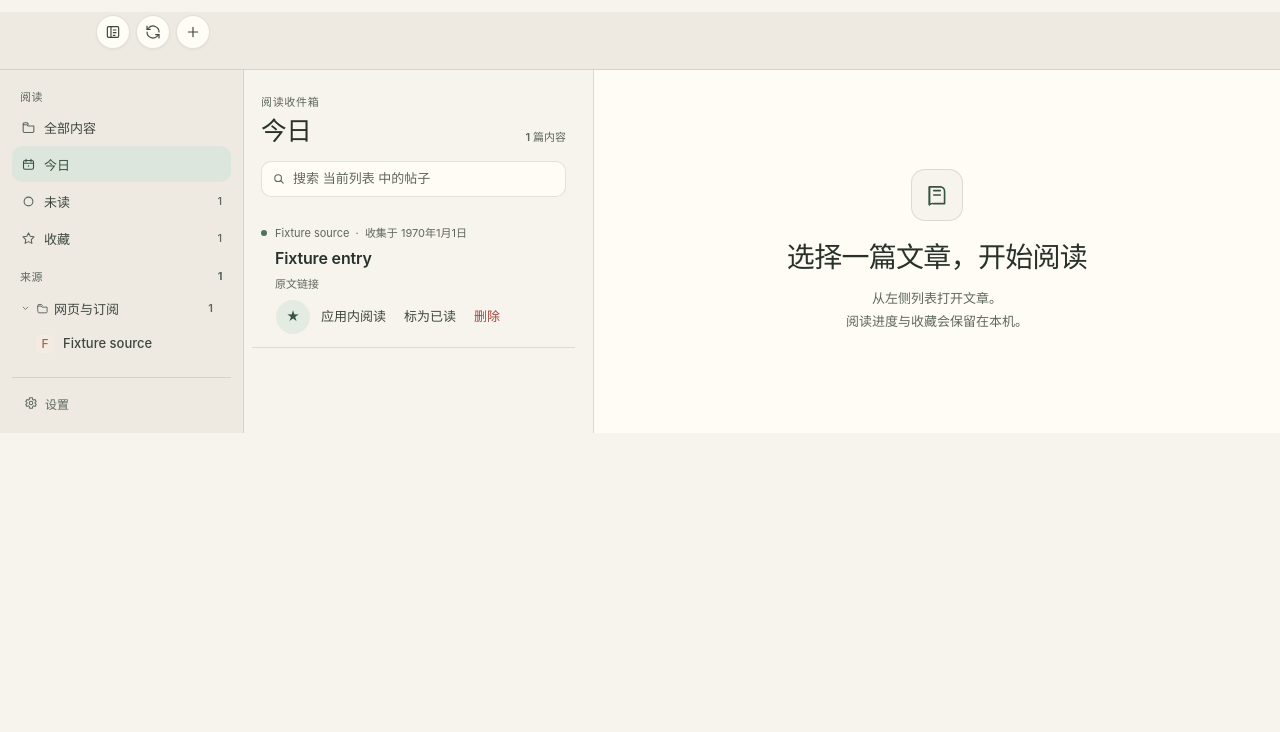
Scenario: keeps newer deletion notice ownership after late favorite failure (dismissed=false)
What coordinates should you click on to do the following:
click the button named "收藏"
I would click on:
 (293, 316)
Its box is [276,300,310,334].
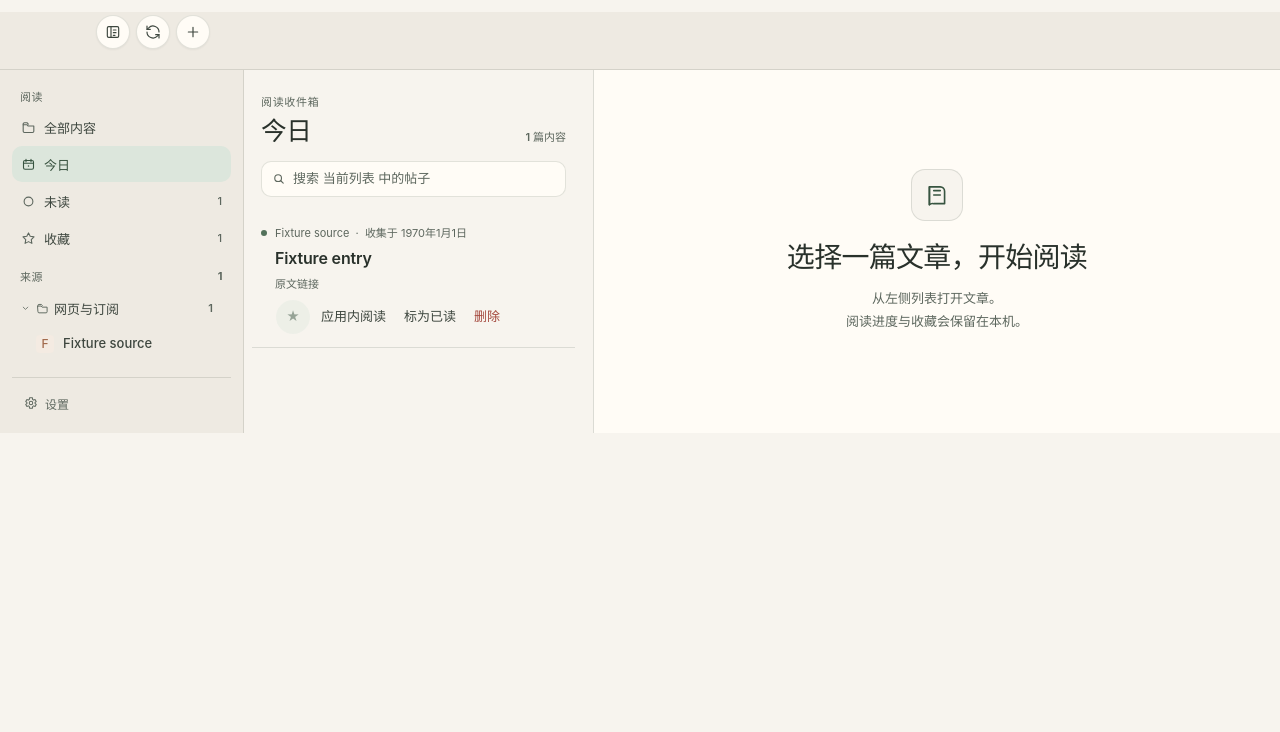
What coordinates should you click on to do the following:
click the button with class "delete-entry"
I would click on:
 (487, 316)
Its box is [467,300,507,334].
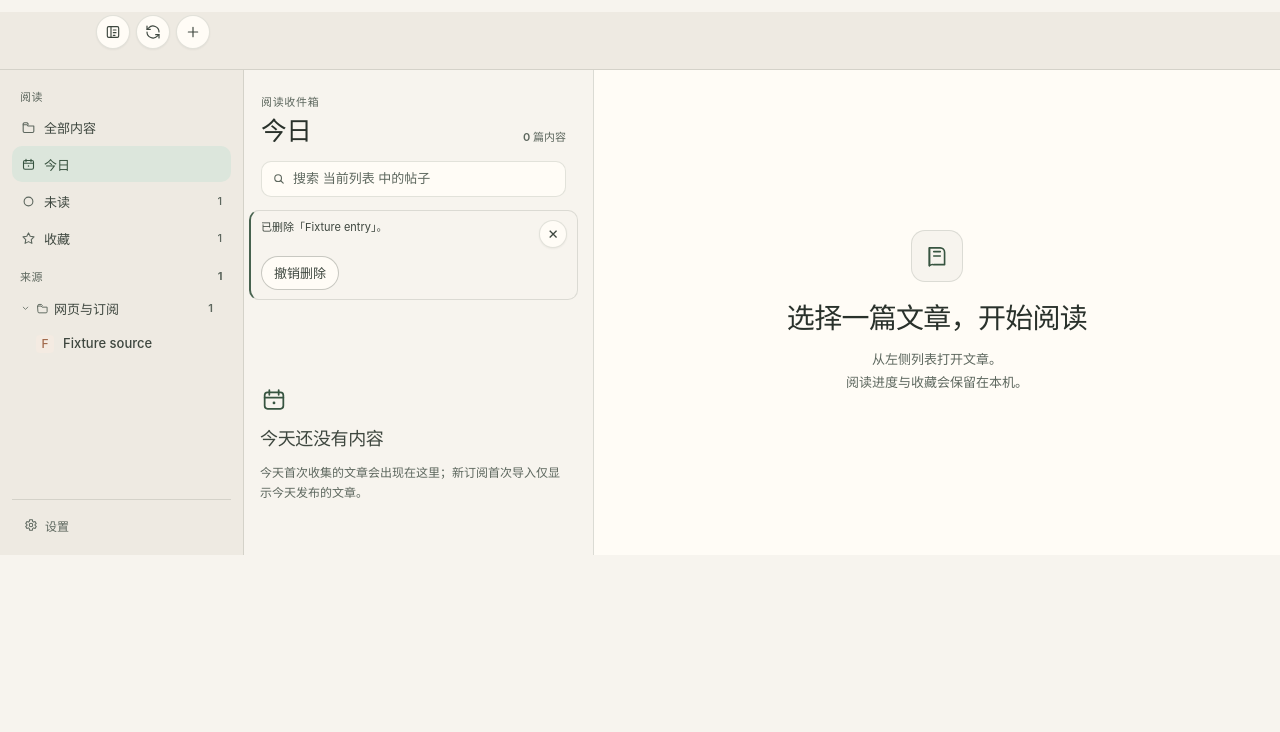
Expected: the element with class "notice-actions" reads "撤销删除", [261,256,339,290]
